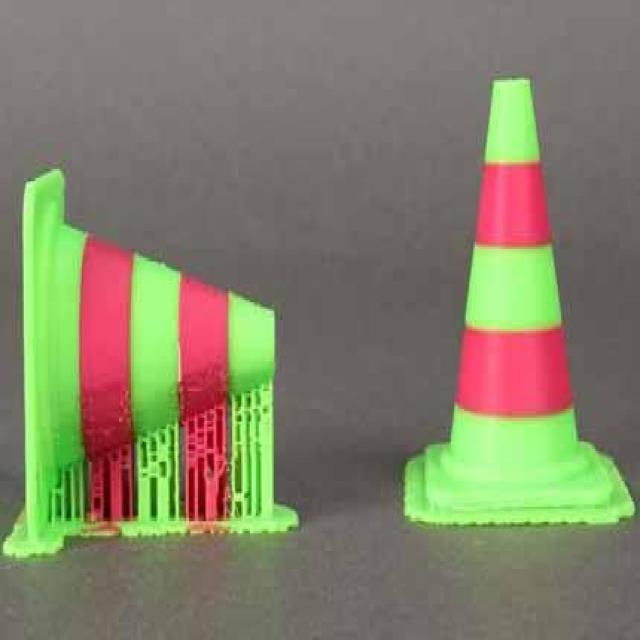Without deffect: (5, 152, 312, 584)
